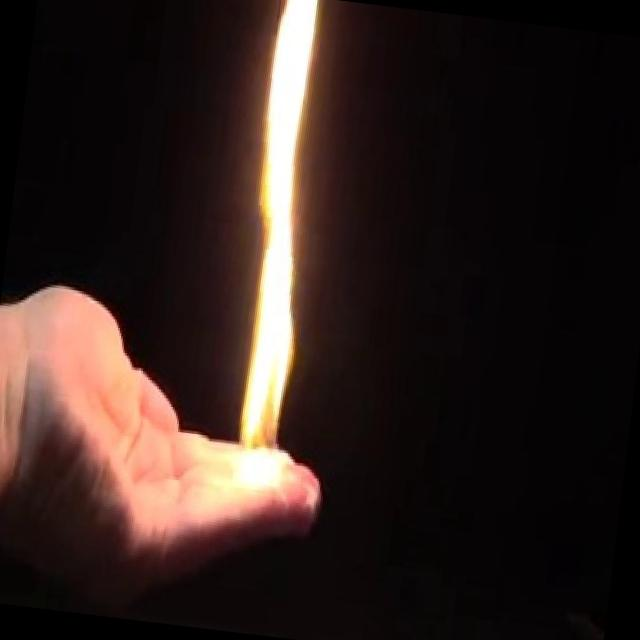Fire: (200, 0, 349, 508)
